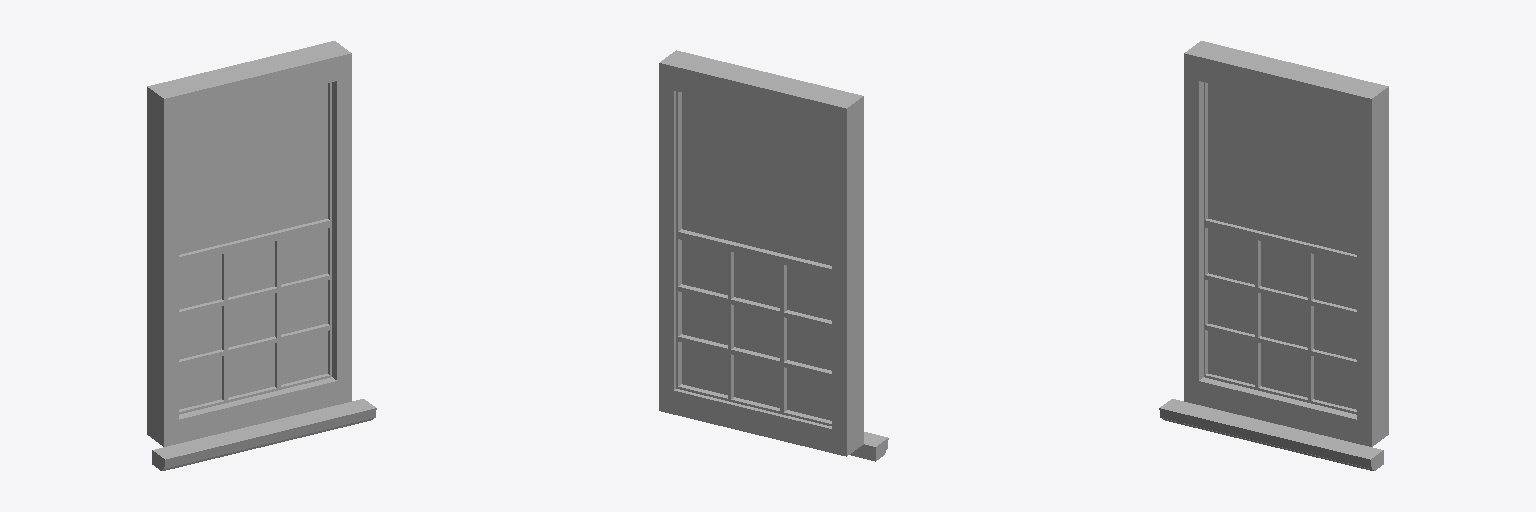
The model's file is Window.obj.
3 renders of one model, left to right at view 1: azimuth 30°, elevation 25°; view 2: azimuth 150°, elevation 25°; view 3: azimuth 330°, elevation 25°, orthographic.
Parts seen in each view (by area): view 1: Mesh1314 Mesh13 Window_obj Model, Mesh1112 Mesh11 Window_obj Model, Mesh1415 Mesh14 Window_obj Model, Mesh1 Mesh1 Window_obj Model, Mesh1213 Mesh12 Window_obj Model, Mesh45 Mesh4 Window_obj Model, Mesh56 Mesh5 Window_obj Model, Mesh78 Mesh7 Window_obj Model, Mesh89 Mesh8 Window_obj Model, Mesh23 Mesh2 Window_obj Model, Mesh910 Mesh9 Window_obj Model, Mesh67 Mesh6 Window_obj Model (+2 smaller); view 2: Mesh1213 Mesh12 Window_obj Model, Mesh1112 Mesh11 Window_obj Model, Mesh1516 Mesh15 Window_obj Model, Mesh1314 Mesh13 Window_obj Model, Mesh45 Mesh4 Window_obj Model, Mesh56 Mesh5 Window_obj Model, Mesh67 Mesh6 Window_obj Model, Mesh23 Mesh2 Window_obj Model, Mesh78 Mesh7 Window_obj Model, Mesh910 Mesh9 Window_obj Model, Mesh89 Mesh8 Window_obj Model, Mesh1011 Mesh10 Window_obj Model (+2 smaller); view 3: Mesh1314 Mesh13 Window_obj Model, Mesh1112 Mesh11 Window_obj Model, Mesh1415 Mesh14 Window_obj Model, Mesh1 Mesh1 Window_obj Model, Mesh1213 Mesh12 Window_obj Model, Mesh45 Mesh4 Window_obj Model, Mesh67 Mesh6 Window_obj Model, Mesh34 Mesh3 Window_obj Model, Mesh1011 Mesh10 Window_obj Model, Mesh23 Mesh2 Window_obj Model, Mesh910 Mesh9 Window_obj Model, Mesh56 Mesh5 Window_obj Model (+2 smaller).
Part boxes in pixels (x1,y1,x2,y2): Mesh1314 Mesh13 Window_obj Model: (156,47,351,446); Mesh1112 Mesh11 Window_obj Model: (179,83,327,254); Mesh1415 Mesh14 Window_obj Model: (179,82,331,414); Mesh1 Mesh1 Window_obj Model: (152,399,376,470); Mesh1213 Mesh12 Window_obj Model: (147,41,342,440); Mesh45 Mesh4 Window_obj Model: (228,241,274,297); Mesh56 Mesh5 Window_obj Model: (281,228,327,284); Mesh78 Mesh7 Window_obj Model: (281,281,327,334); Mesh89 Mesh8 Window_obj Model: (281,331,327,384); Mesh23 Mesh2 Window_obj Model: (228,294,274,347); Mesh910 Mesh9 Window_obj Model: (228,344,274,397); Mesh67 Mesh6 Window_obj Model: (179,254,221,309); Mesh1213 Mesh12 Window_obj Model: (659,57,854,456); Mesh1112 Mesh11 Window_obj Model: (682,93,831,265); Mesh1516 Mesh15 Window_obj Model: (676,91,831,425); Mesh1314 Mesh13 Window_obj Model: (668,50,863,449); Mesh45 Mesh4 Window_obj Model: (734,253,779,307); Mesh56 Mesh5 Window_obj Model: (682,240,727,294); Mesh67 Mesh6 Window_obj Model: (787,266,831,320); Mesh23 Mesh2 Window_obj Model: (734,305,779,357); Mesh78 Mesh7 Window_obj Model: (682,292,727,344); Mesh910 Mesh9 Window_obj Model: (734,355,779,407); Mesh89 Mesh8 Window_obj Model: (682,343,727,394); Mesh1011 Mesh10 Window_obj Model: (787,368,831,420); Mesh1314 Mesh13 Window_obj Model: (1184,47,1379,446); Mesh1112 Mesh11 Window_obj Model: (1208,83,1356,254); Mesh1415 Mesh14 Window_obj Model: (1204,82,1356,414); Mesh1 Mesh1 Window_obj Model: (1159,399,1383,470); Mesh1213 Mesh12 Window_obj Model: (1193,41,1388,440); Mesh45 Mesh4 Window_obj Model: (1261,241,1307,297); Mesh67 Mesh6 Window_obj Model: (1208,228,1254,284); Mesh34 Mesh3 Window_obj Model: (1208,281,1254,334); Mesh1011 Mesh10 Window_obj Model: (1208,331,1254,384); Mesh23 Mesh2 Window_obj Model: (1261,294,1307,347); Mesh910 Mesh9 Window_obj Model: (1261,344,1307,397); Mesh56 Mesh5 Window_obj Model: (1314,254,1356,309).
Bounding box in the file's own units: 1.07 × 1.75 × 0.2639.